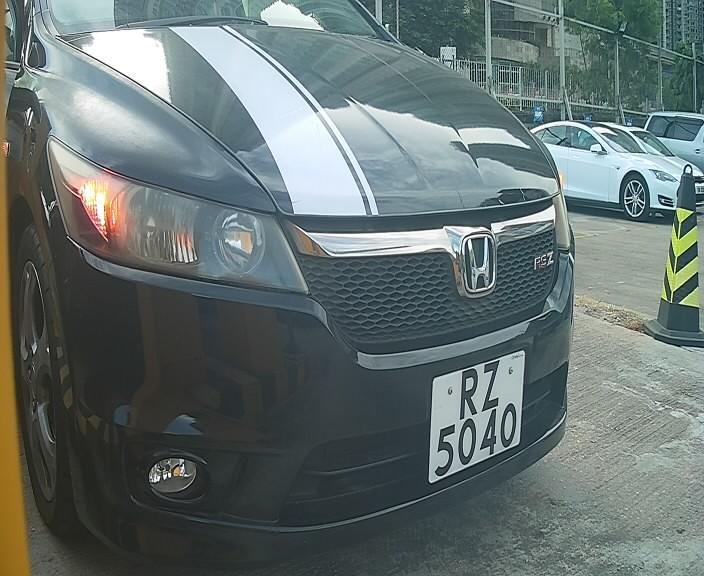License Plate: (419, 348, 525, 484)
